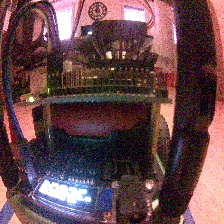rob: (5, 18, 185, 224)
